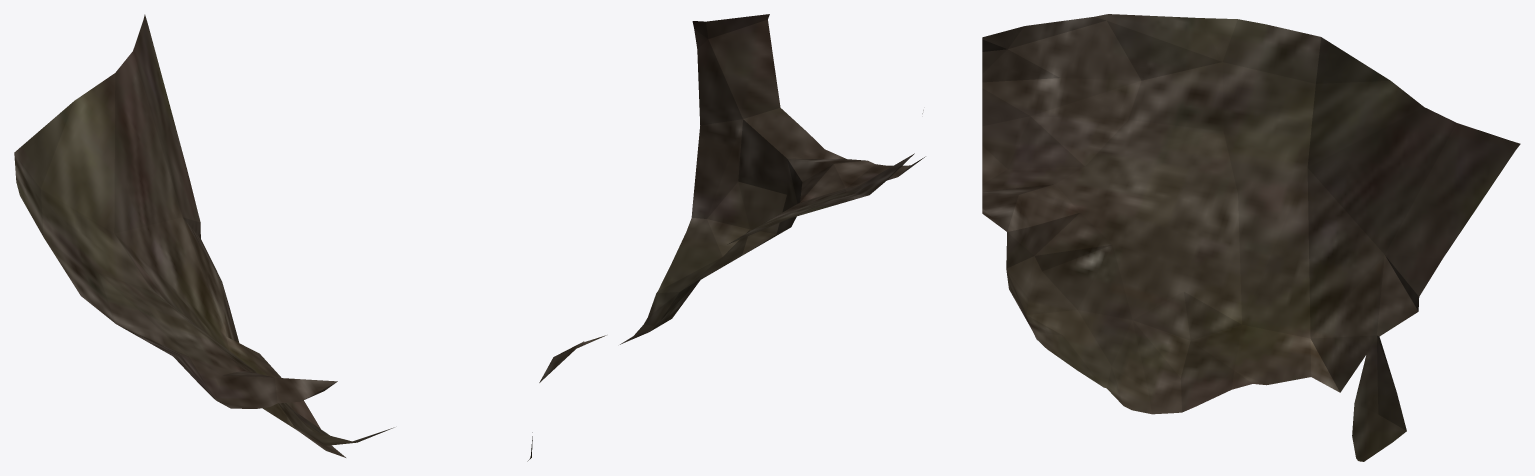
The picture shows the model from 3 angles, left to right: view 1: azimuth 30°, elevation 25°; view 2: azimuth 150°, elevation 25°; view 3: azimuth 270°, elevation 25°; orthographic projection. The views are drawn at different scales.
Bounding box in the file's own units: 0.7631 × 0.872 × 1.34.
1 material, 1 textured.
